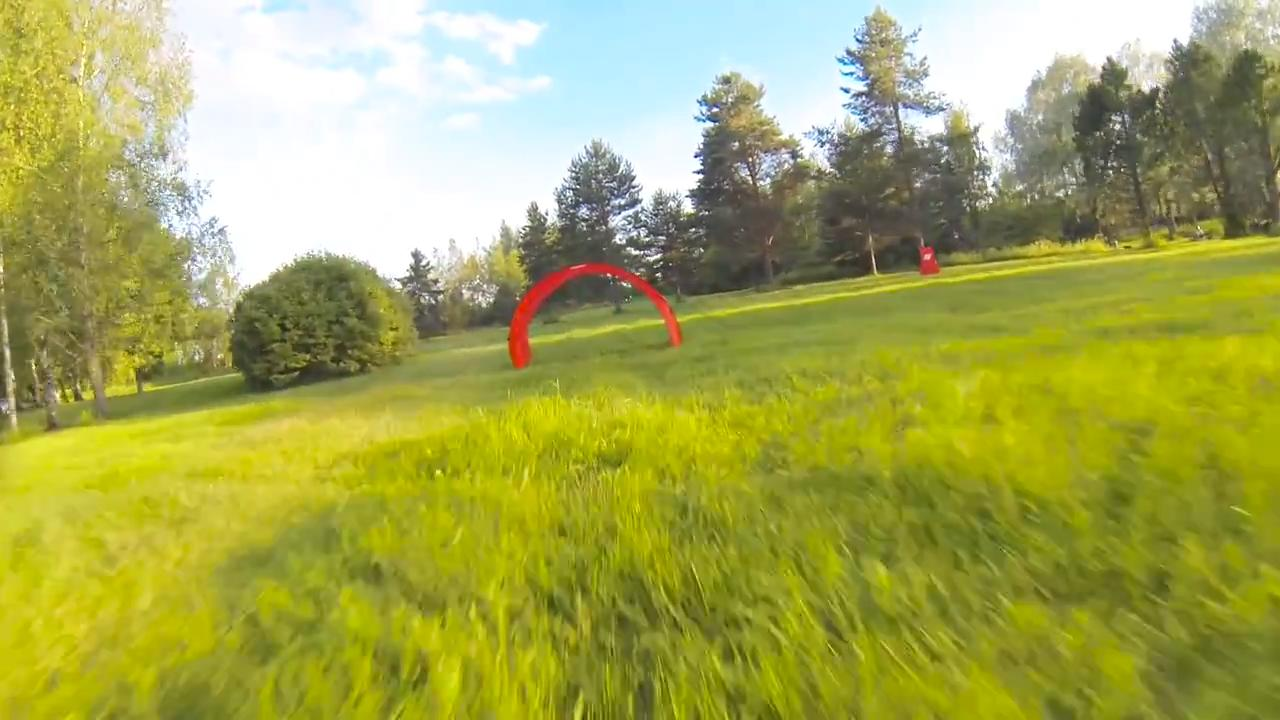gate: (503, 261, 691, 368)
